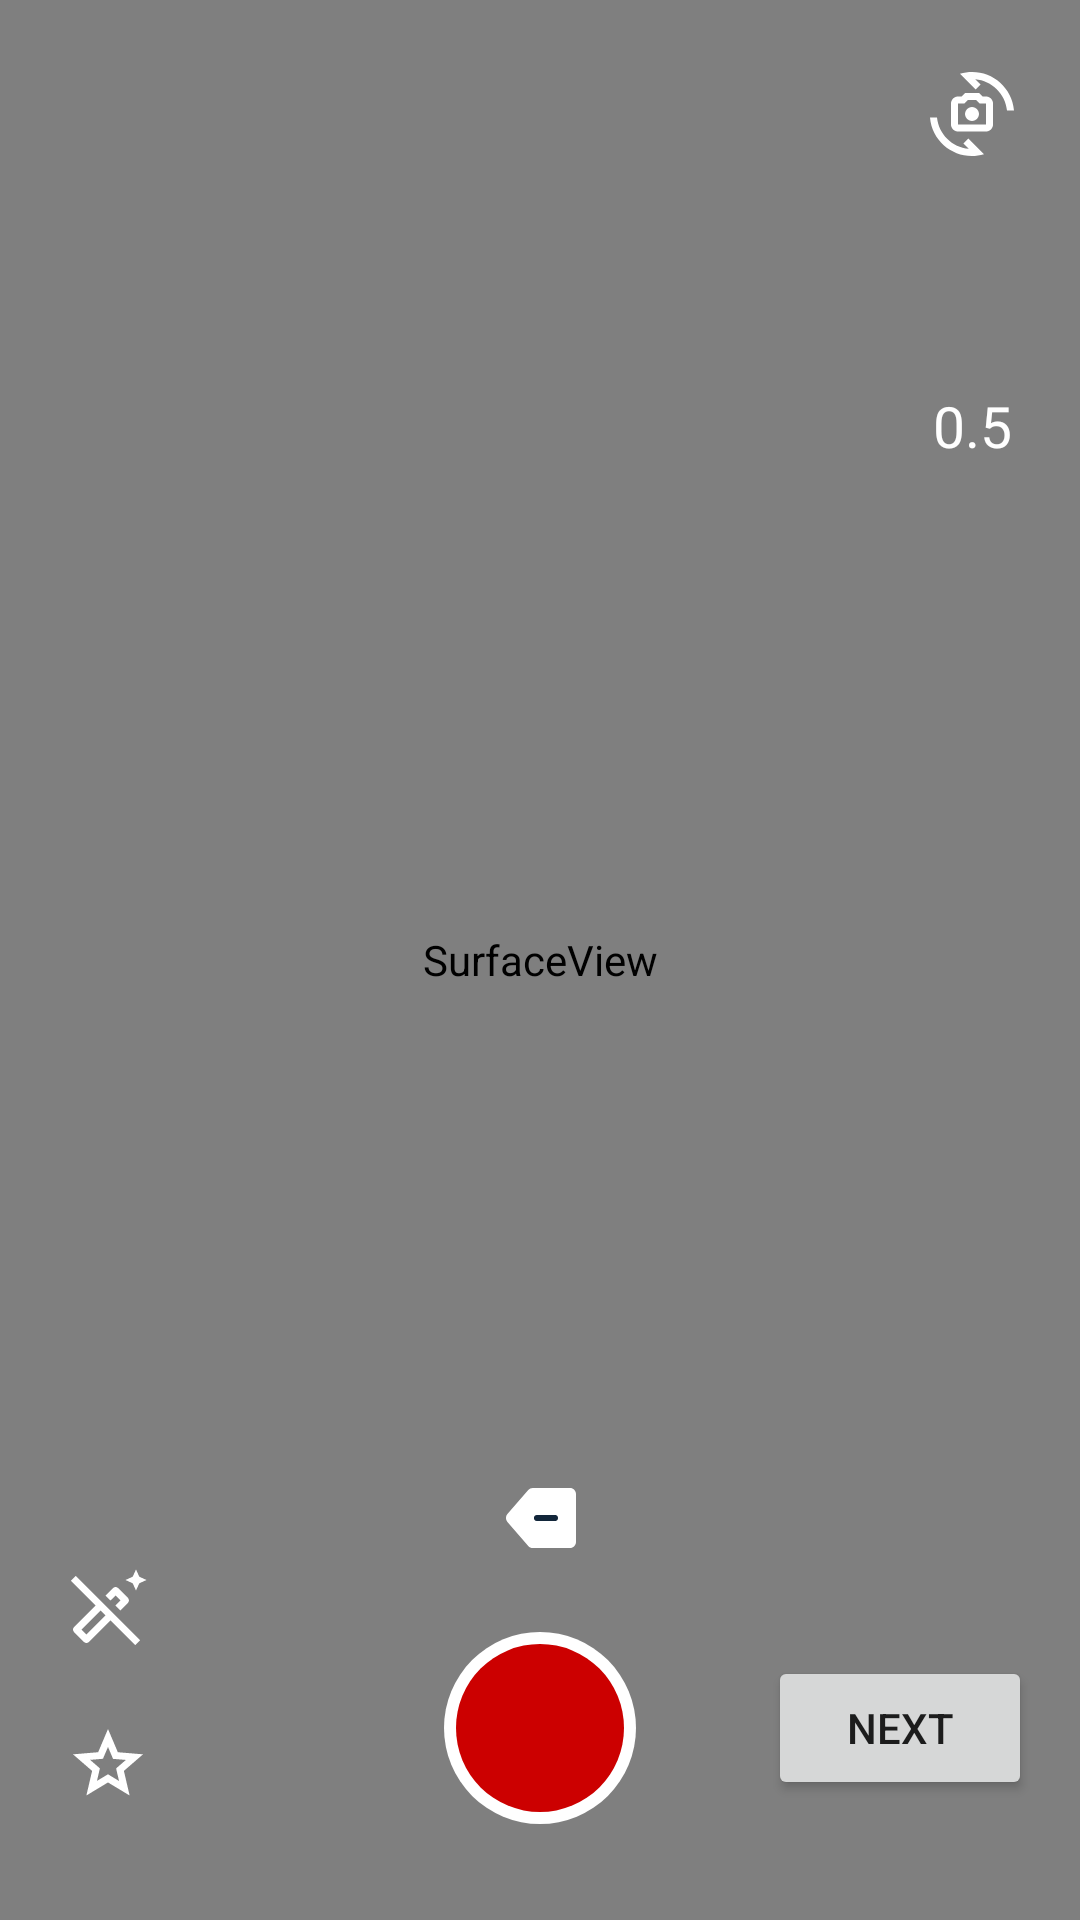

Locate icon controls on the screen. Image size 1080px x 1920px, boxes as (x1, y1, x2, y2).
camera switch: (930, 72, 1014, 156)
remove video part: (506, 1488, 576, 1548)
